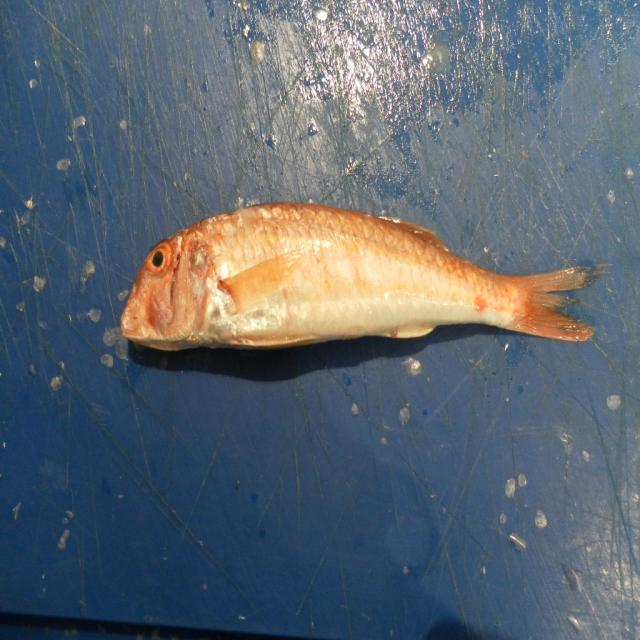Striped-Red-Mullet-tekir-: (120, 202, 608, 354)
